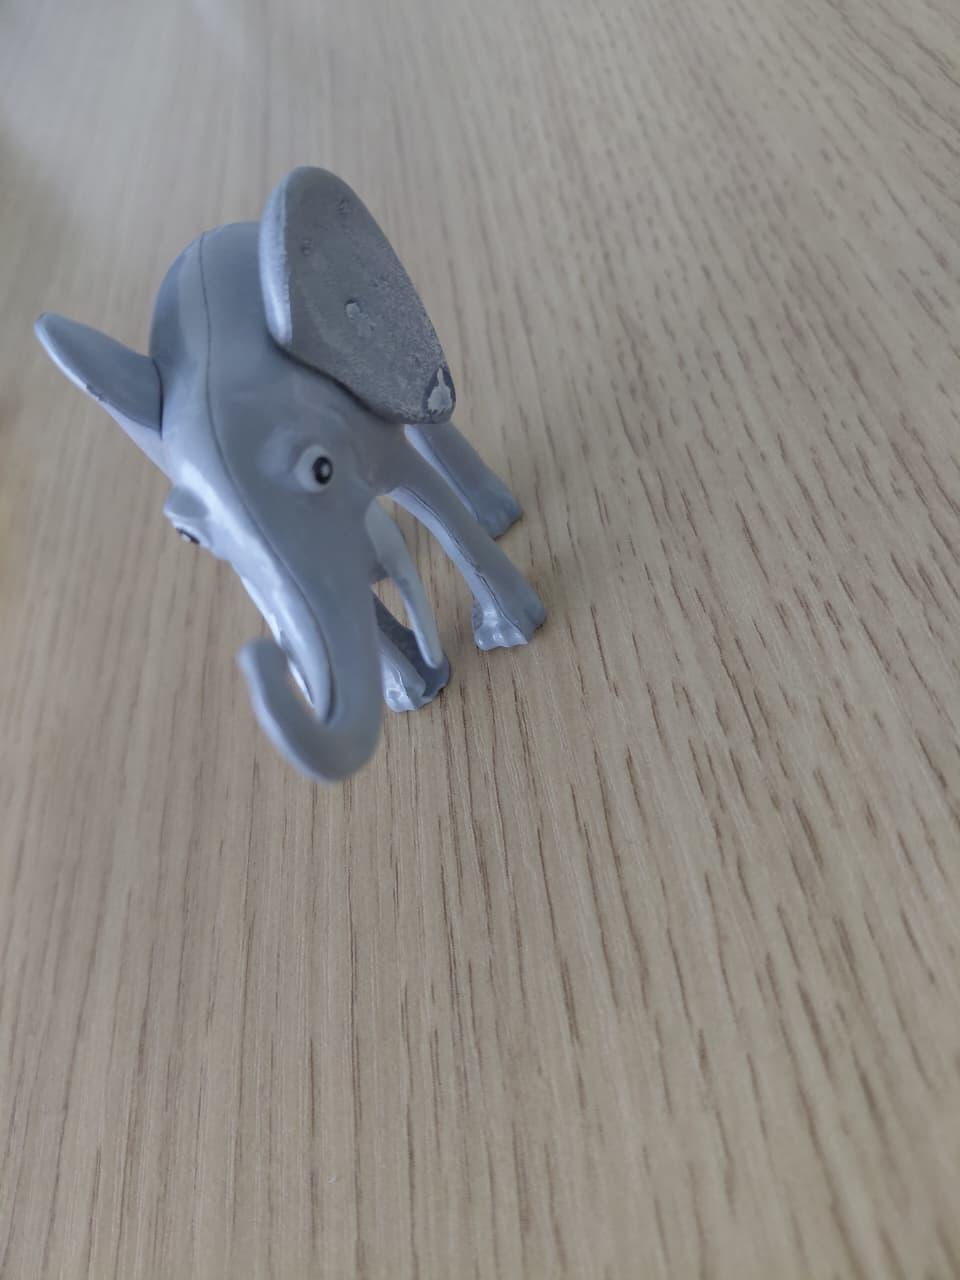elephant: (25, 157, 760, 820)
